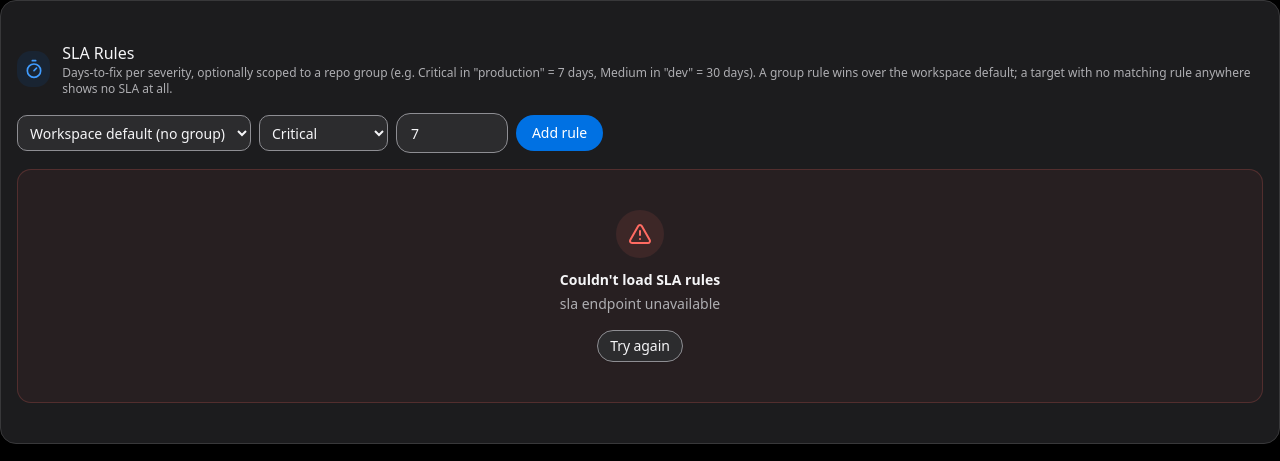
Test: SlaRules, a read that failed vs a workspace with no rules › offers a retry that re-runs the read and shows the rules it returns
Click the button "Try again". click: (640,346)
box: [597,330,683,362]
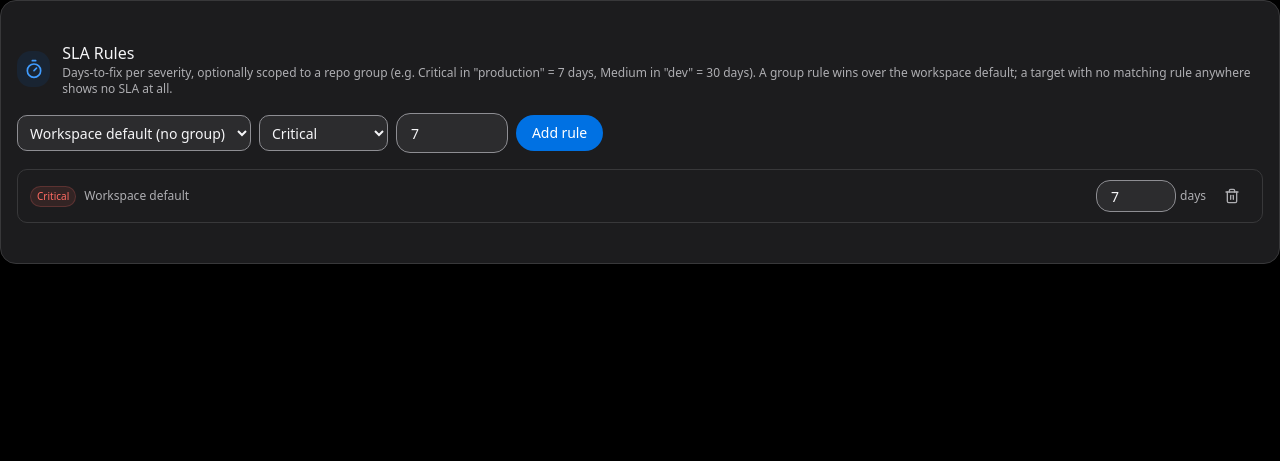
Expected: the number field named "Days to fix for Critical in Workspace default" is shown, [1096,180,1176,212]
Expected: the text "Couldn't load SLA rules" is gone
